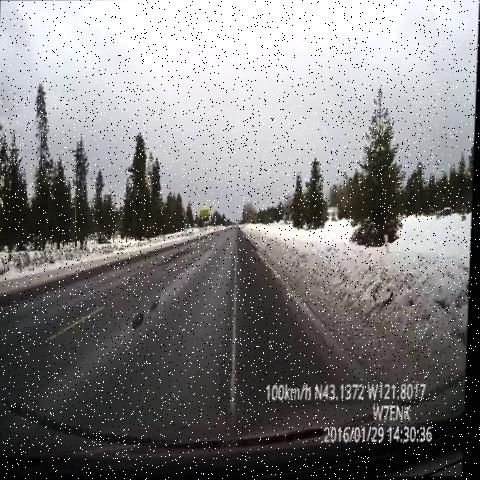pothole: (152, 242, 193, 277), (203, 240, 220, 262)
